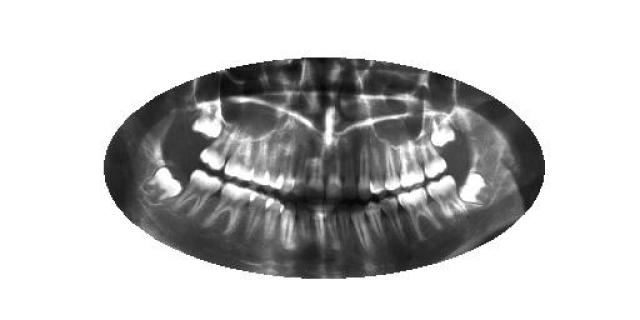Restorations: (140, 165, 185, 206), (191, 98, 224, 138), (458, 170, 492, 206), (432, 110, 456, 148)
